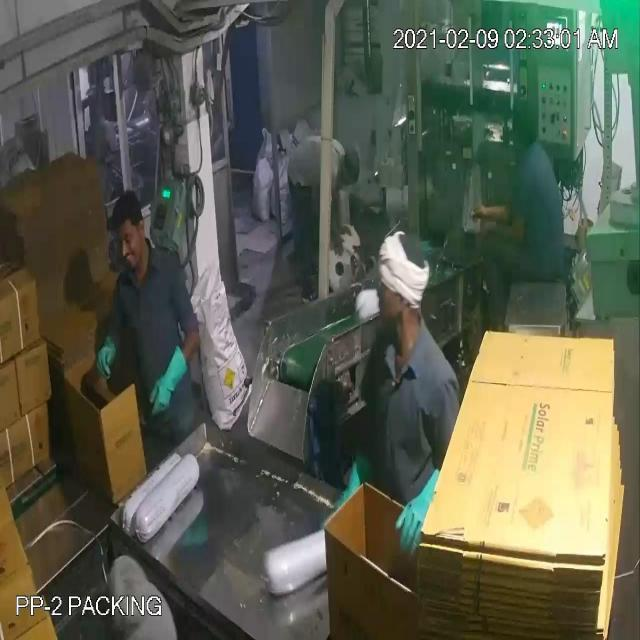Gloves: (42, 34, 503, 515)
